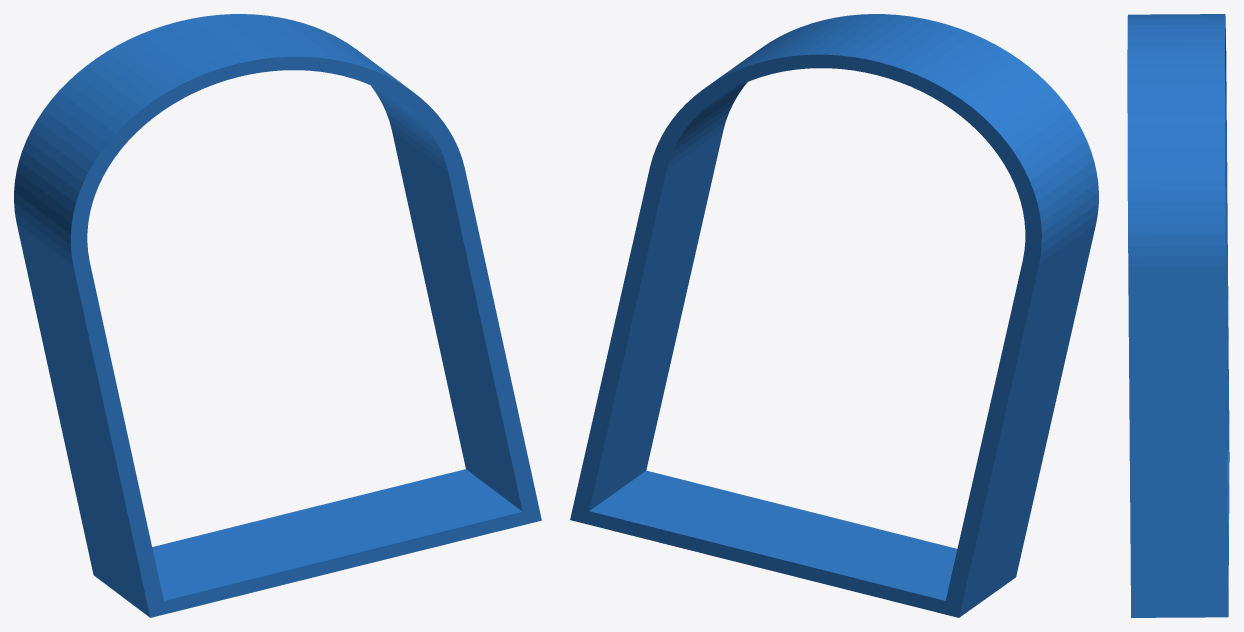
Rendered from just-a-door.fbx.
3 renders of one model, left to right at view 1: azimuth 30°, elevation 25°; view 2: azimuth 150°, elevation 25°; view 3: azimuth 270°, elevation 25°, orthographic. The views are drawn at different scales.
Parts seen in each view (by area): view 1: door.002; view 2: door.002; view 3: door.002.
Part boxes in pixels (bbox=[...]): door.002: bbox=[14, 14, 541, 617]; door.002: bbox=[570, 14, 1098, 617]; door.002: bbox=[1127, 14, 1229, 617].
Size of the model in its own units: 51.73 by 236 by 256.
